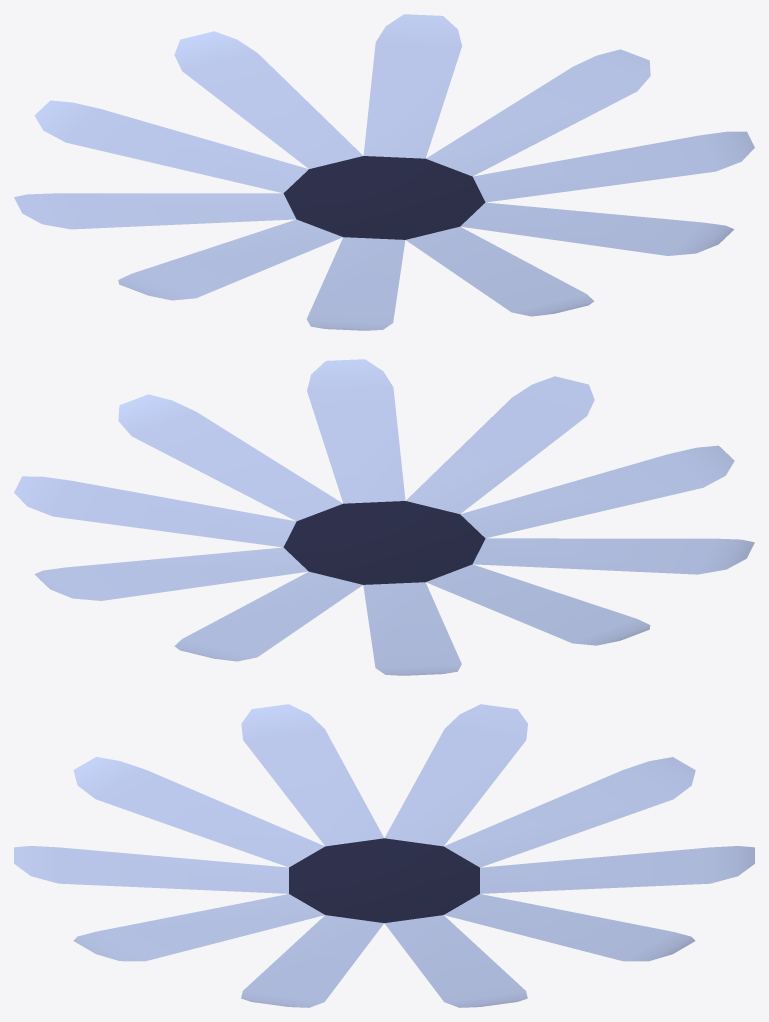
The model's file is Flower_06.fbx.
The picture shows the model from 3 angles, top to bottom: view 1: azimuth 30°, elevation 25°; view 2: azimuth 150°, elevation 25°; view 3: azimuth 270°, elevation 25°; orthographic projection.
Visible parts, largest first — view 1: Flower_06; view 2: Flower_06; view 3: Flower_06.
Boxes of the visible parts, bbox=[...] form: Flower_06: bbox=[14, 14, 754, 330]; Flower_06: bbox=[14, 359, 754, 675]; Flower_06: bbox=[14, 704, 754, 1007].
Size of the model in its own units: 41.01 by 1.87 by 42.4.
